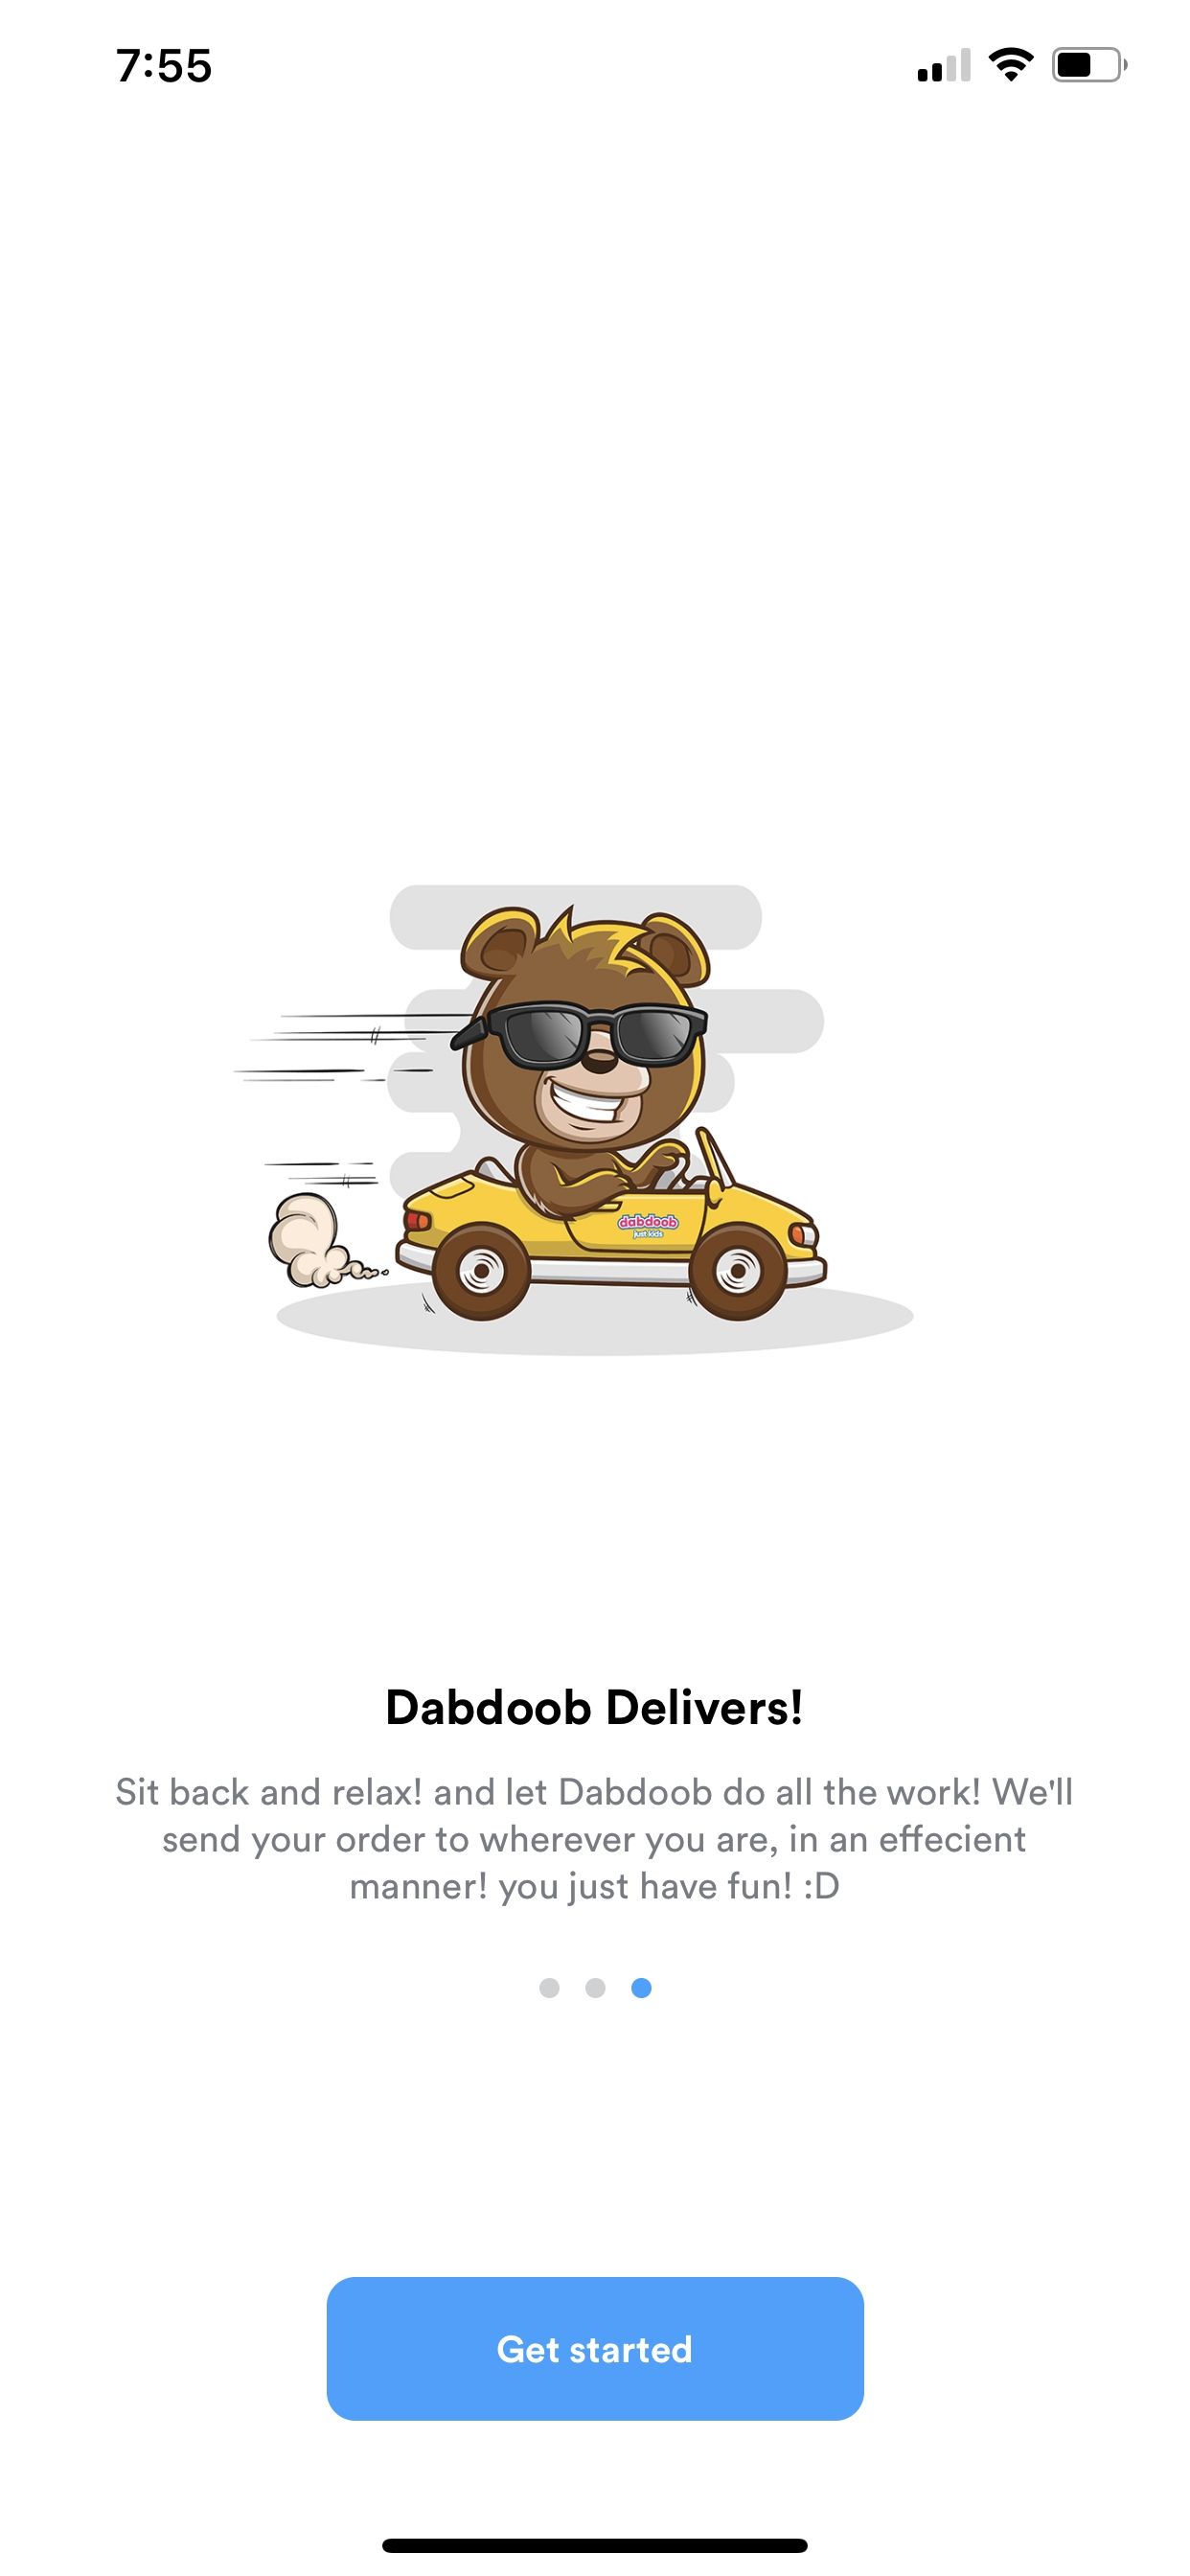Image: (232, 885, 912, 1357)
PageIndicator: (539, 1978, 651, 1998)
Text: (117, 1778, 1072, 1906), (388, 1687, 800, 1725)
TextButton: (327, 2275, 865, 2422)
UpperTaskBar: (117, 48, 1128, 84)
